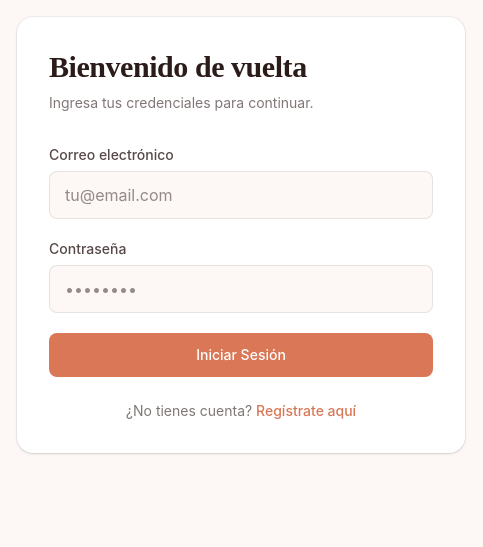
it: AuthPage › shows server errors and client validation messages
Click the button "Iniciar Sesión".
click(241, 355)  # box [49,333,433,377]
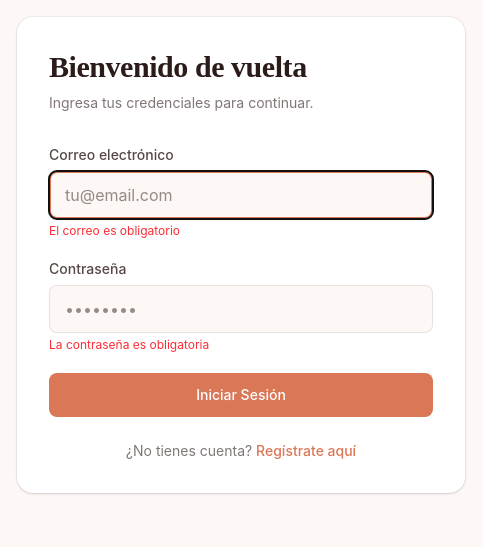
expect the text "El correo es obligatorio" is shown: met, box [49,223,180,238]
expect the text "La contraseña es obligatoria" is shown: met, box [49,337,209,352]
Type "user@example.com" into the field with placeholder "tu@email.com".
click(241, 195); type("user@example.com")  # box [49,171,433,219]
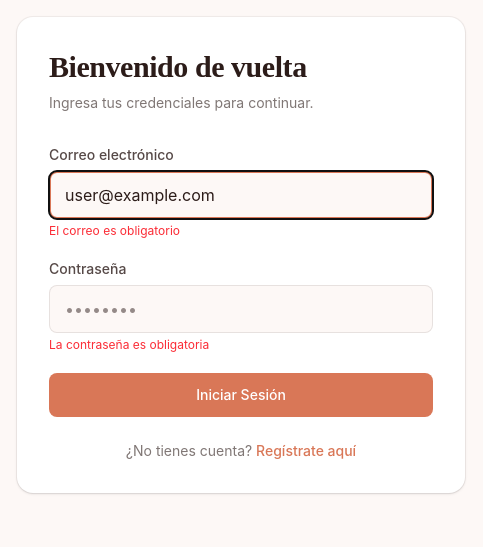
Type "secret1" into the password field with placeholder "••••••••".
click(241, 309); type("secret1")  # box [49,285,433,333]
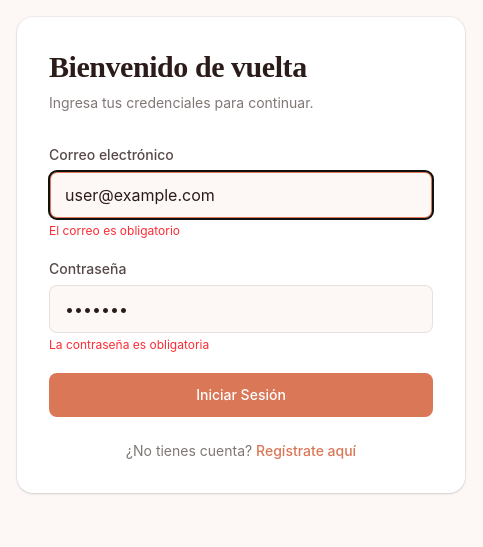
Click the button "Iniciar Sesión".
click(241, 395)  # box [49,373,433,417]
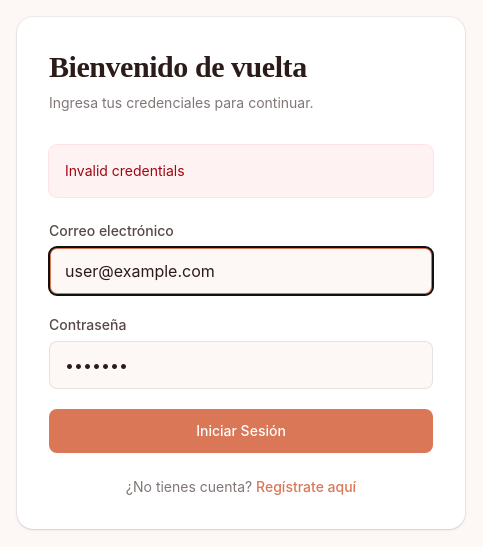
expect the text "Invalid credentials" is shown: met, box [49,145,433,197]
